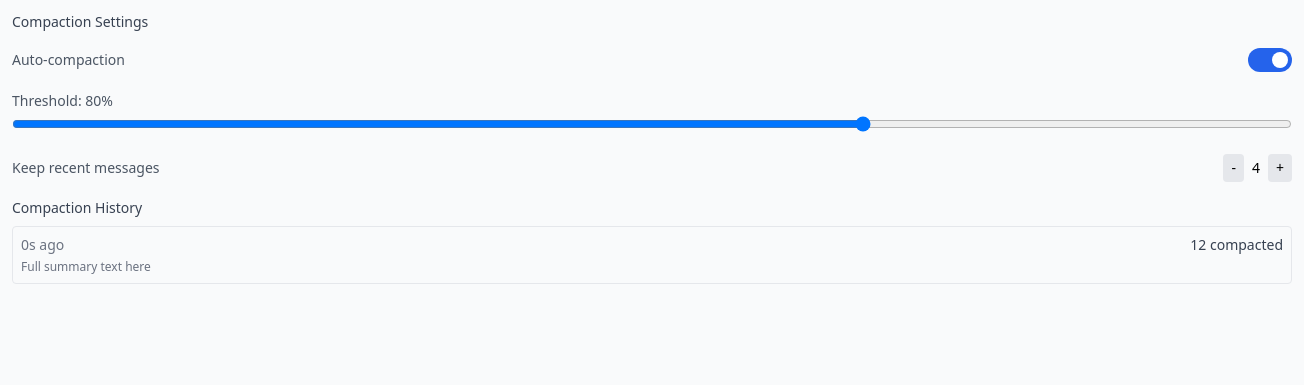
Test: CompactionPanel › expands and collapses history entries on click
The width and height of the screenshot is (1304, 385).
// Click to expand
Click the element with test id "compaction-history-entry" at point(652, 255), box [12,226,1292,284]
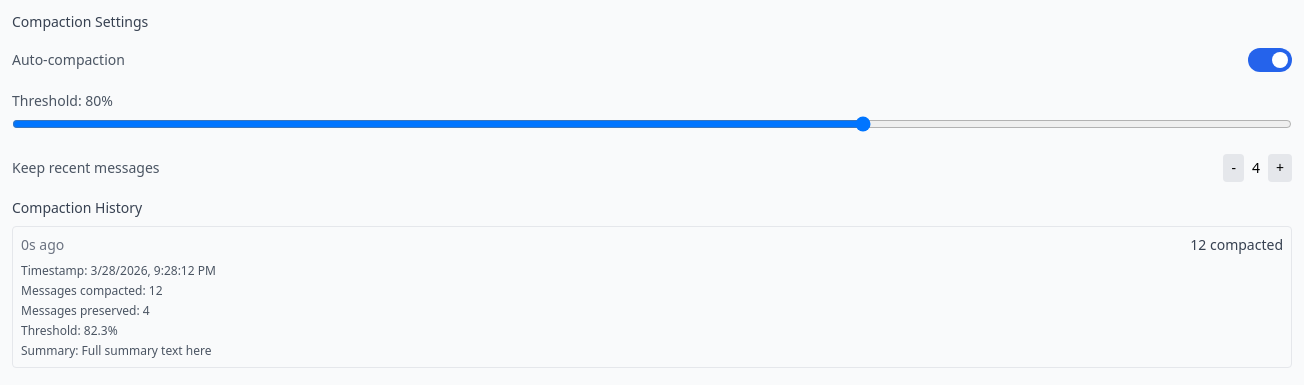
Now the element with test id "compaction-history-expanded" is shown, box [21,262,216,359]
Now the text "Messages compacted: 12" is shown, box [21,282,163,299]
Now the text "Messages preserved: 4" is shown, box [21,302,150,319]
// Click again to collapse
Click the element with test id "compaction-history-entry" at point(652, 297), box [12,226,1292,368]
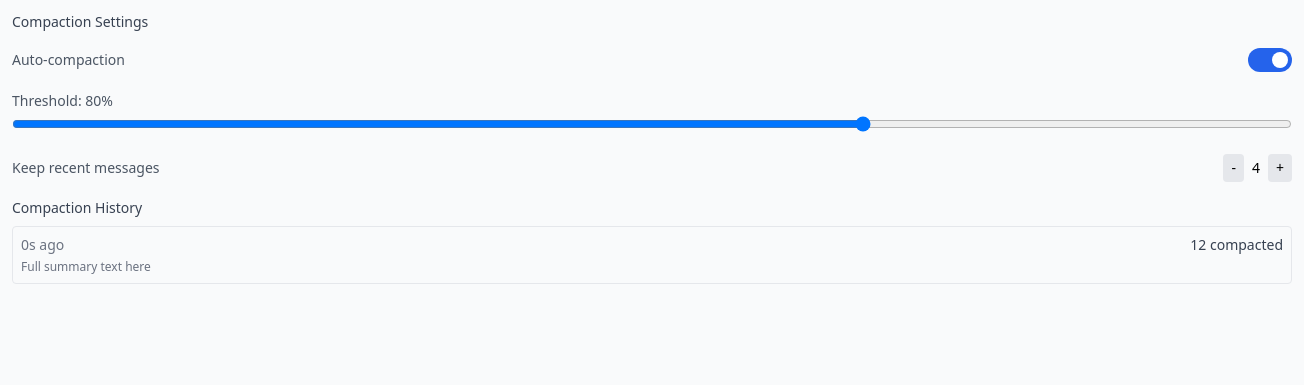
Now the element with test id "compaction-history-expanded" is gone
